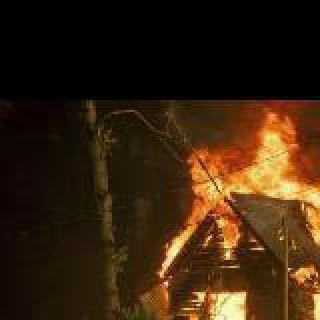fire: (150, 106, 320, 320)
